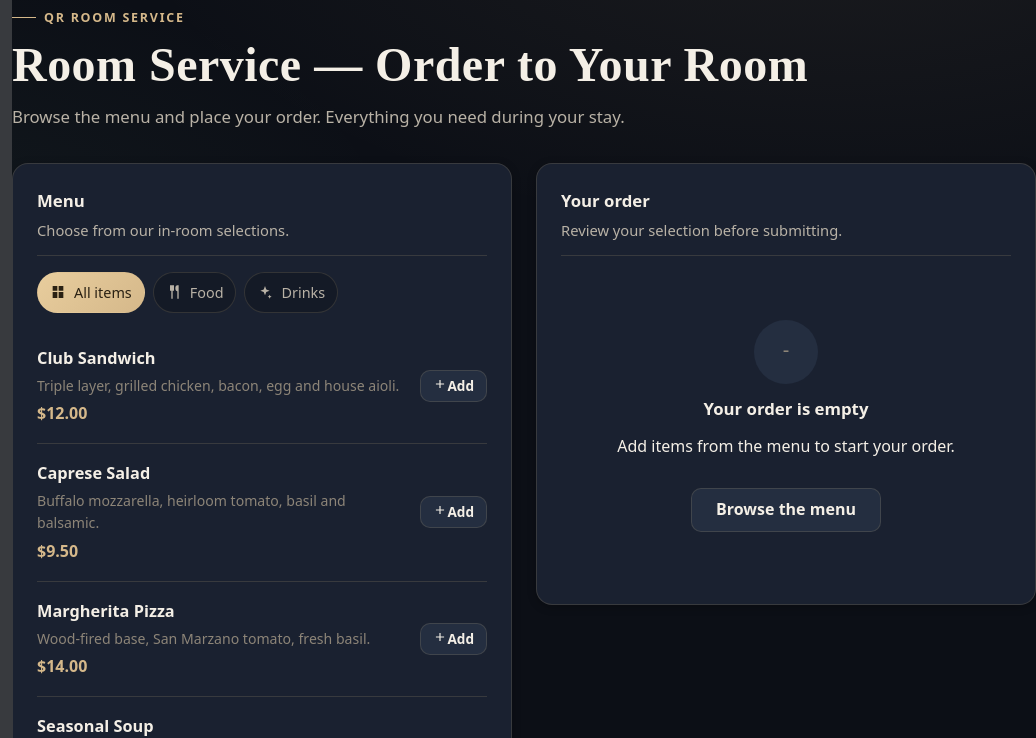
Test case: QRRoomServiceView › adds an item to the cart and shows it in the order panel
The image size is (1036, 738).
What coordinates should you click on to do the following:
click the 1st button "Add"
I would click on:
 (454, 386)
Its box is [420,370,487,402].
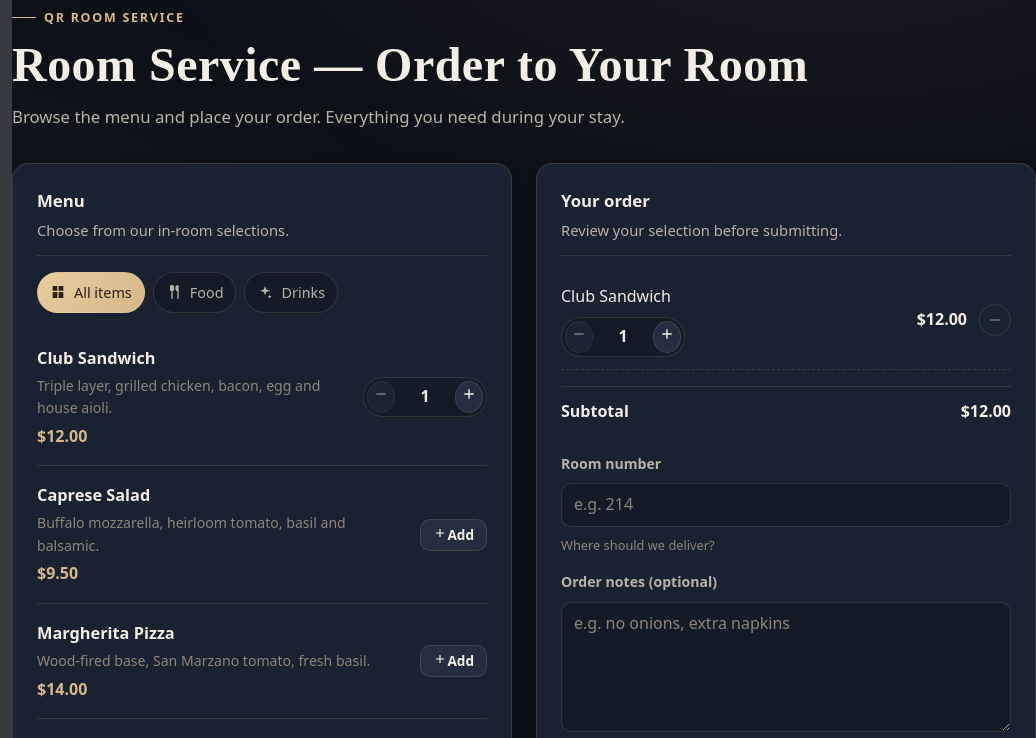
Expected: the text "Club Sandwich" below "Review your selection before submitting." is shown, [561,285,671,307]
Expected: the text "$12.00" in the row of "Subtotal" is shown, [961,400,1011,422]
